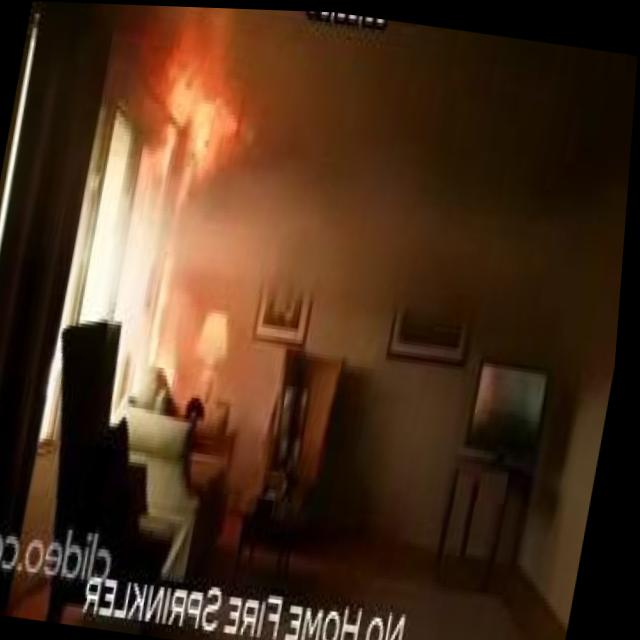fire: (164, 65, 252, 168)
